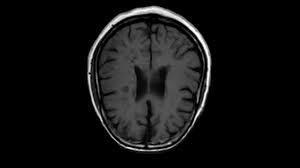Normal_Brain: (1, 1, 300, 166)
